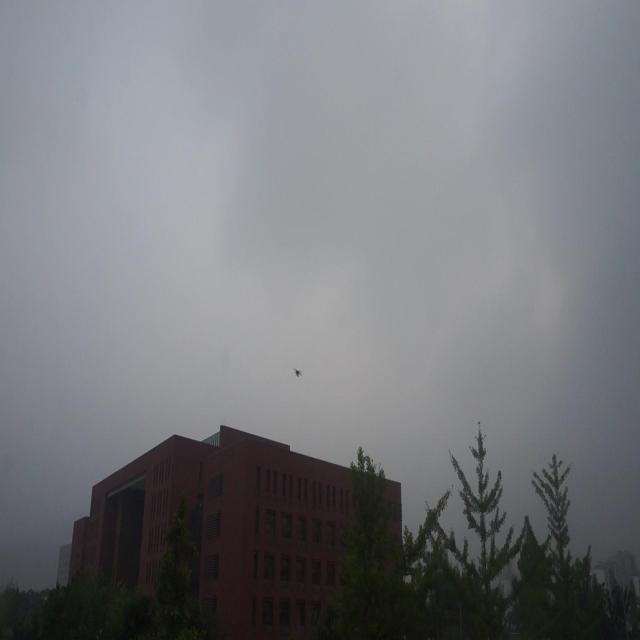drone: (292, 364, 304, 380)
